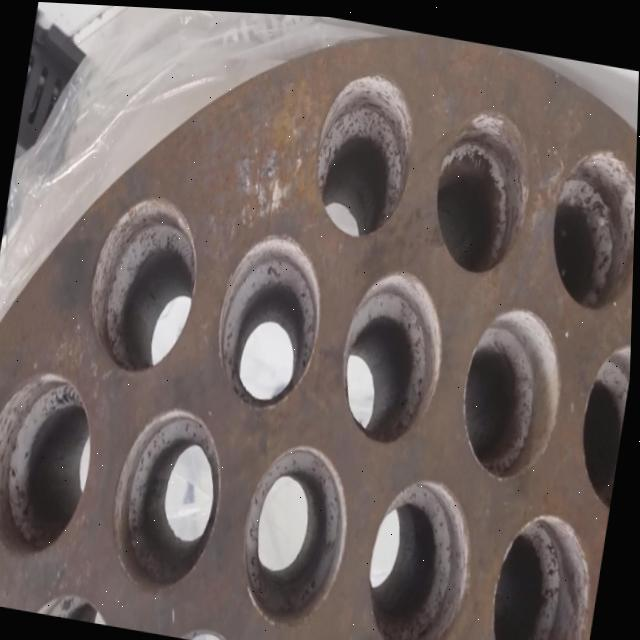Hole: (103, 397, 233, 599), (233, 431, 360, 629), (79, 185, 208, 379), (331, 256, 455, 449), (208, 221, 332, 413), (453, 293, 574, 481), (358, 465, 485, 640), (304, 59, 422, 239), (425, 95, 541, 278), (0, 362, 104, 564), (482, 499, 604, 640), (541, 133, 637, 310), (572, 328, 633, 507)
